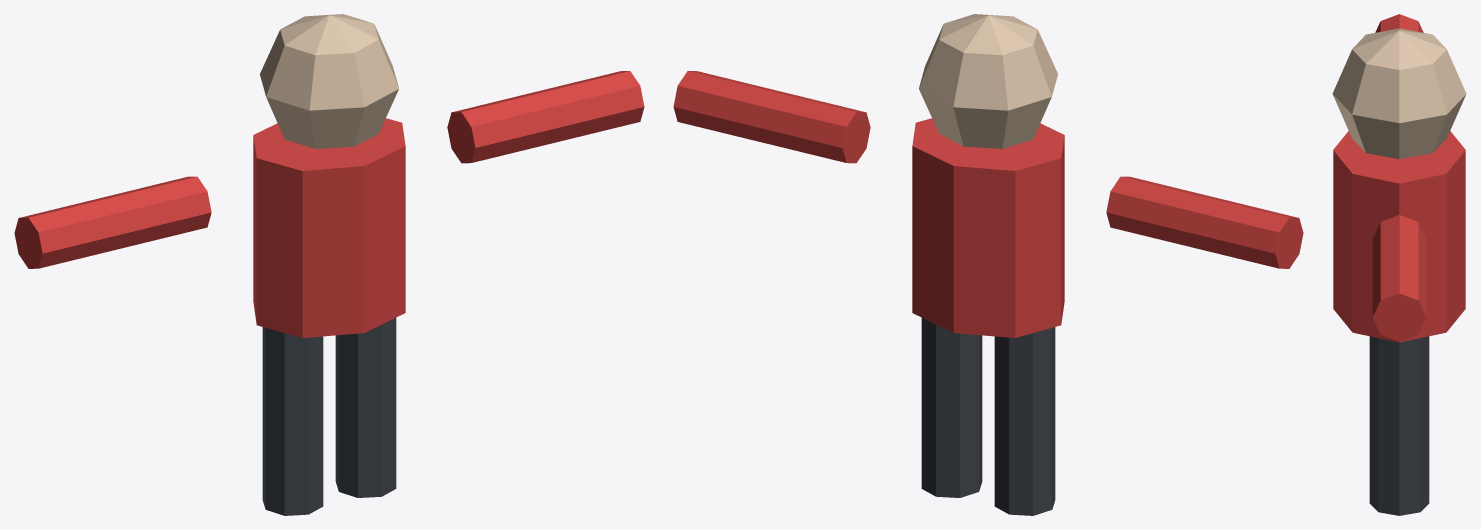
Rendered from clerk.glb.
3 renders of one model, left to right at view 1: azimuth 30°, elevation 25°; view 2: azimuth 150°, elevation 25°; view 3: azimuth 270°, elevation 25°, orthographic. The views are drawn at different scales.
Visible parts, largest first — view 1: clerk; view 2: clerk; view 3: clerk.
Part boxes in pixels (x1,y1,x2,y2): clerk: [14, 14, 644, 515]; clerk: [673, 14, 1303, 515]; clerk: [1332, 14, 1466, 515].
Bounding box in the file's own units: 2.24 × 1.7 × 0.4533.
